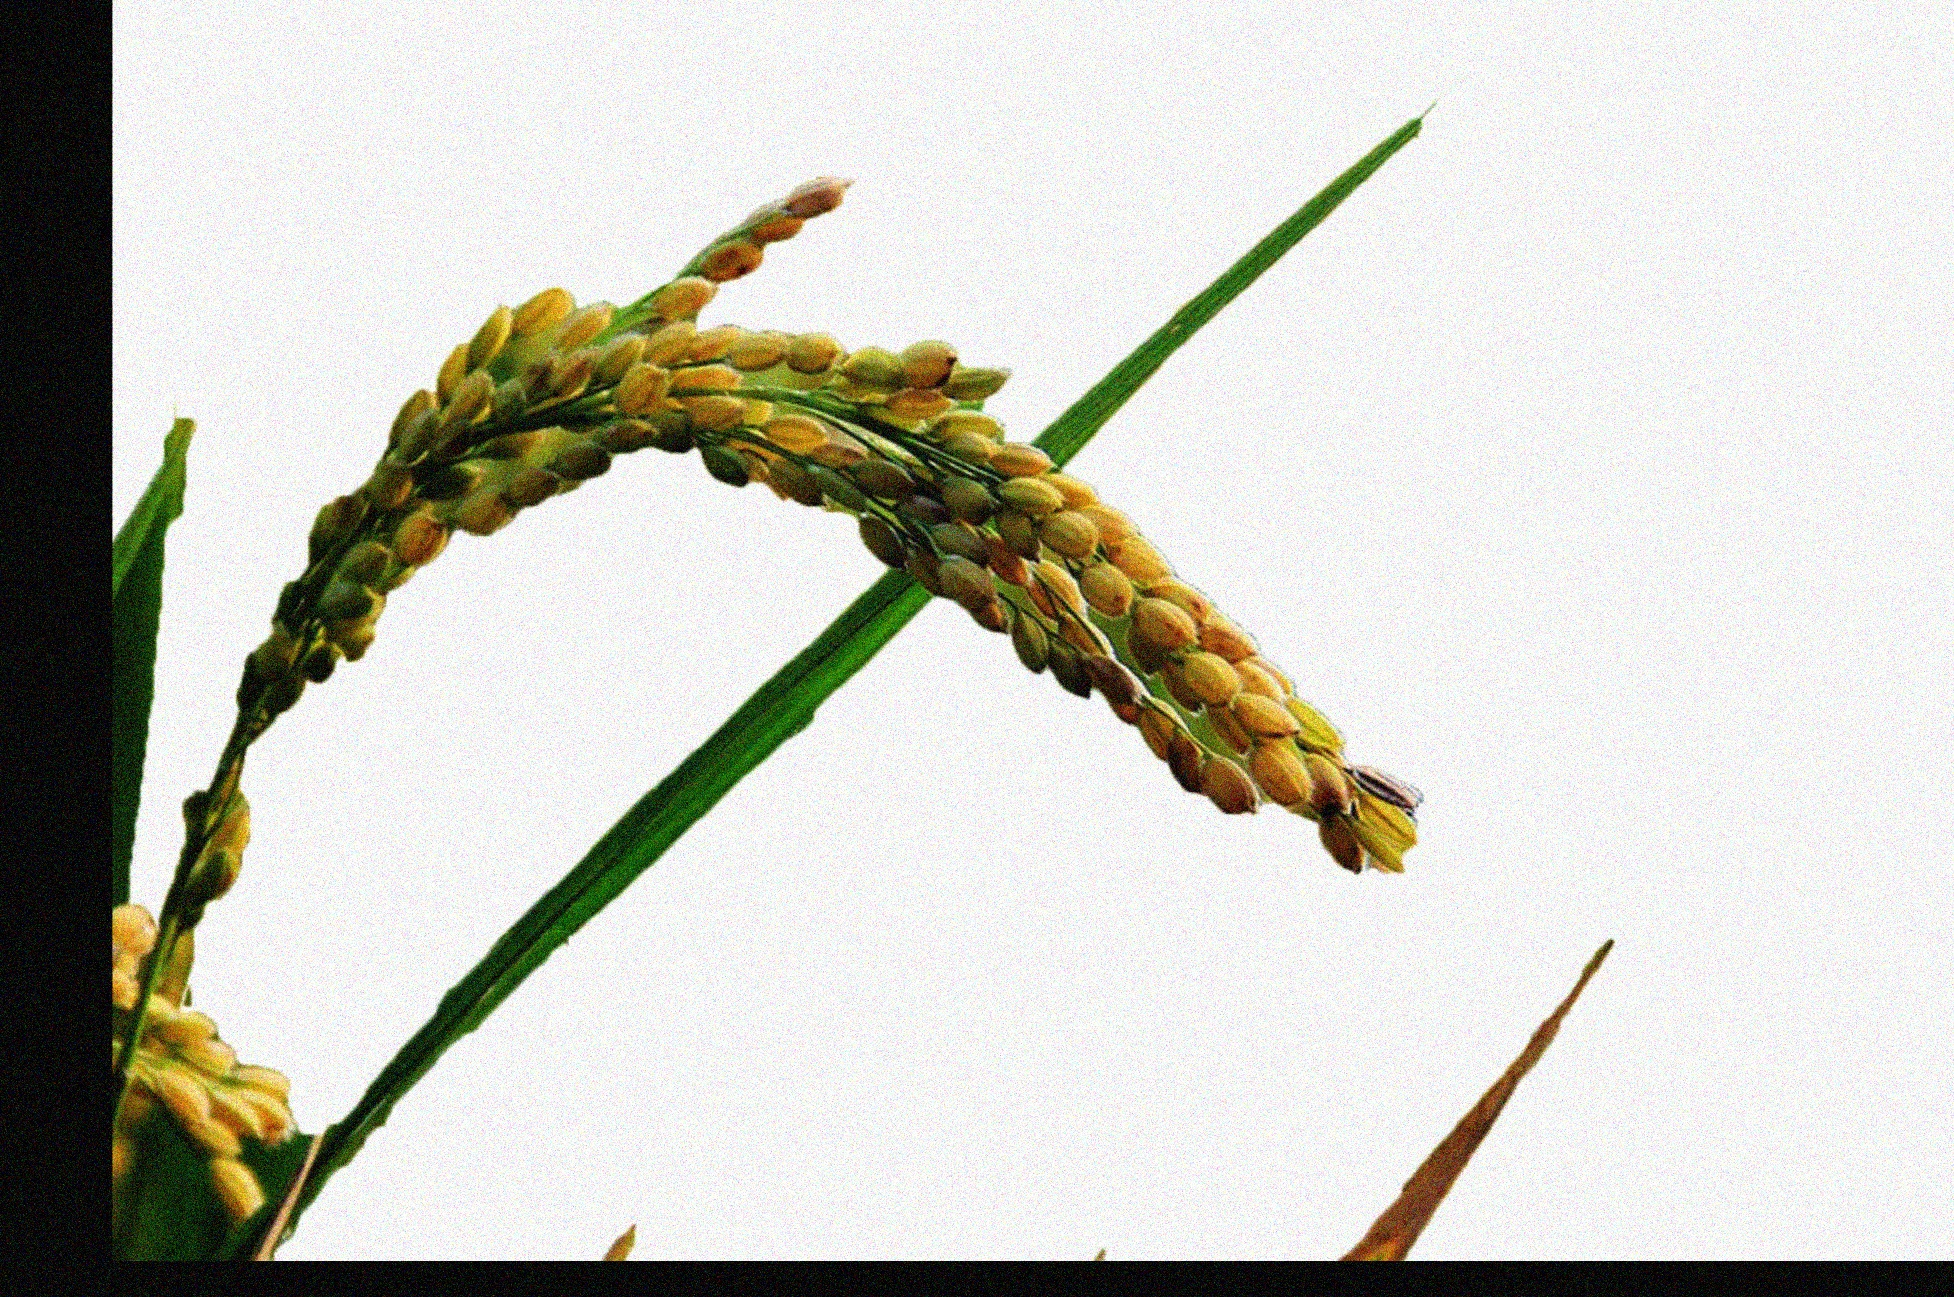rice: (143, 129, 1450, 986)
